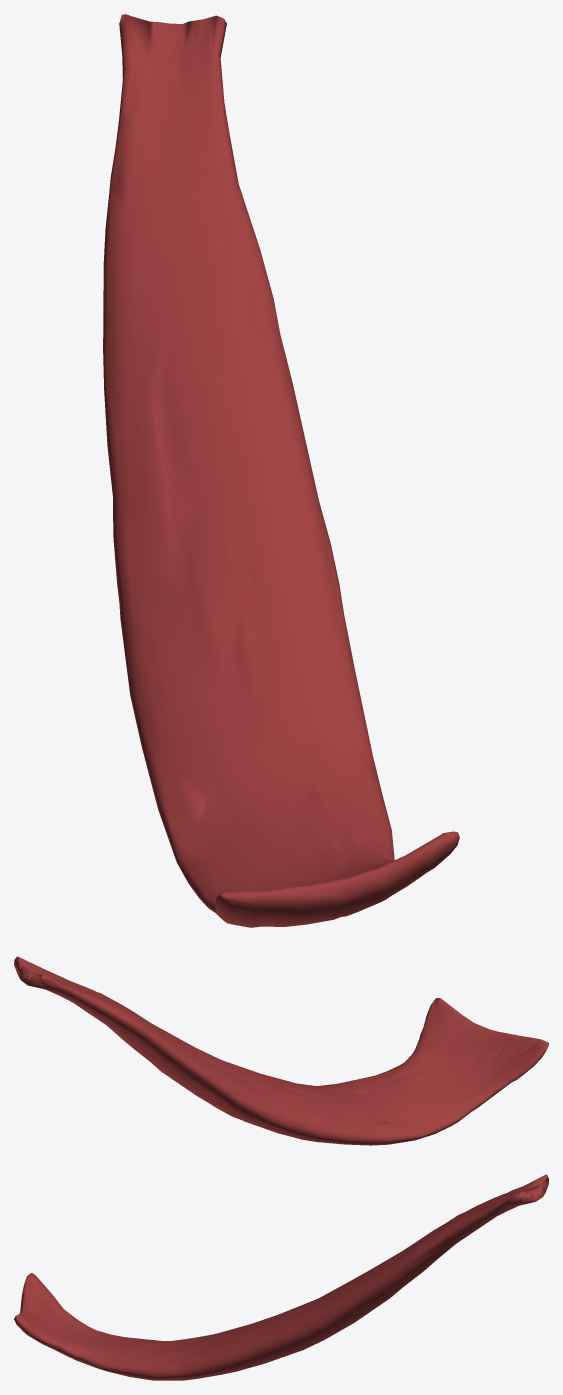
File: inferior-rectus-muscle-r.glb
3 views of the same model, one above another, from view 1: azimuth 30°, elevation 25°; view 2: azimuth 150°, elevation 25°; view 3: azimuth 270°, elevation 25° (orthographic). The views are drawn at different scales.
Visible parts, largest first — view 1: Inferior rectus muscle.r; view 2: Inferior rectus muscle.r; view 3: Inferior rectus muscle.r.
Boxes of the visible parts, box(x1,y1,x2,y2) form: Inferior rectus muscle.r: box(103, 14, 459, 927); Inferior rectus muscle.r: box(14, 956, 548, 1145); Inferior rectus muscle.r: box(14, 1174, 548, 1380).
Bounding box in the file's own units: 0.0222 × 0.0218 × 0.0414.
